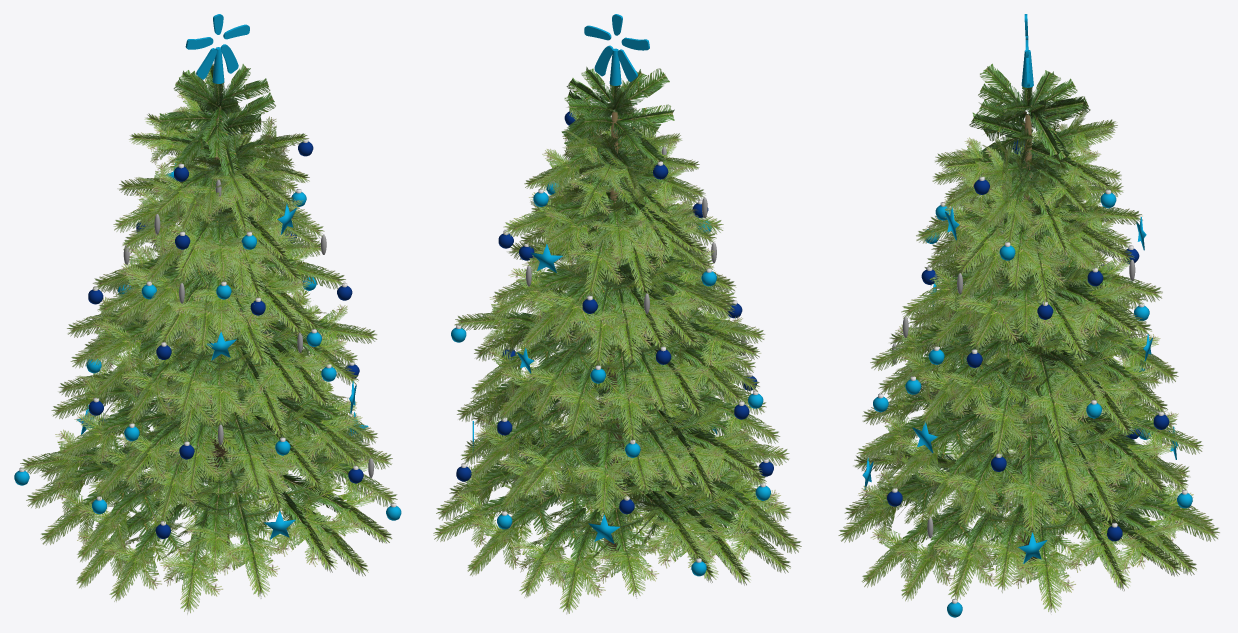
File: christmas_tree.gltf
The picture shows the model from 3 angles, left to right: view 1: azimuth 30°, elevation 25°; view 2: azimuth 150°, elevation 25°; view 3: azimuth 270°, elevation 25°; orthographic projection. The views are drawn at different scales.
Parts seen in each view (by area): view 1: leaves_Plane.085, Logo_eurofirms_Curve.010; view 2: leaves_Plane.085, Logo_eurofirms_Curve.010, Cylinder; view 3: leaves_Plane.085, Cylinder.
Boxes of the visible parts, x1=… form: leaves_Plane.085: x1=20, y1=63, x2=397, y2=614; Logo_eurofirms_Curve.010: x1=185, y1=14, x2=249, y2=79; leaves_Plane.085: x1=433, y1=67, x2=801, y2=613; Logo_eurofirms_Curve.010: x1=584, y1=14, x2=649, y2=81; Cylinder: x1=603, y1=111, x2=624, y2=559; leaves_Plane.085: x1=838, y1=63, x2=1219, y2=612; Cylinder: x1=1017, y1=114, x2=1037, y2=569.
Size of the model in its own units: 1.31 by 2.06 by 1.32.
Materials: 6 (1 with a texture image).
